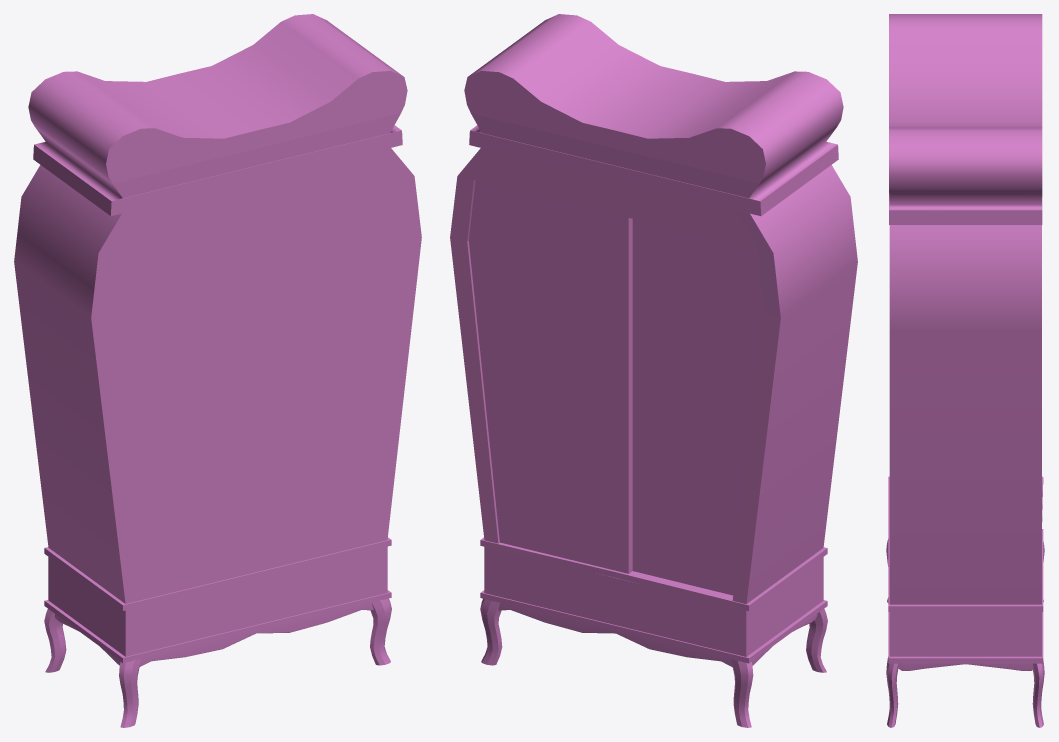
Rendered from BgMD_closet_curve_0101.fbx.
3 views of the same model, side by side, from view 1: azimuth 30°, elevation 25°; view 2: azimuth 150°, elevation 25°; view 3: azimuth 270°, elevation 25° (orthographic).
Parts seen in each view (by area): view 1: Bg_closet_curve; view 2: Bg_closet_curve, Bg_closet_curve_door1, Bg_closet_curve_door2; view 3: Bg_closet_curve.
Boxes of the visible parts, x1=… form: Bg_closet_curve: x1=14, y1=14, x2=421, y2=727; Bg_closet_curve: x1=450, y1=14, x2=857, y2=727; Bg_closet_curve_door1: x1=468, y1=180, x2=632, y2=573; Bg_closet_curve_door2: x1=632, y1=219, x2=763, y2=595; Bg_closet_curve: x1=886, y1=14, x2=1044, y2=727.
Bounding box in the file's own units: 0.871 × 1.5 × 0.3659.
